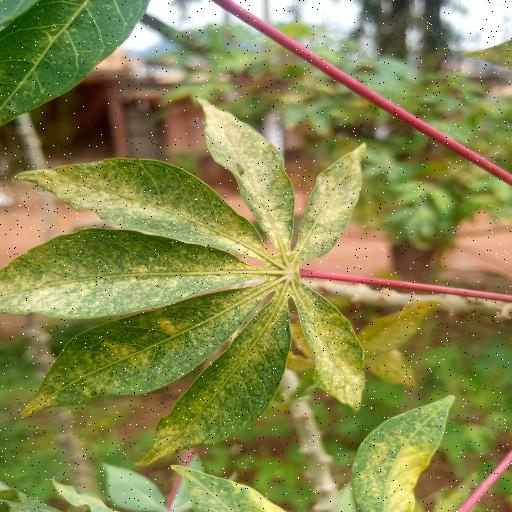Cassava_Mosaic: (0, 95, 366, 472)
